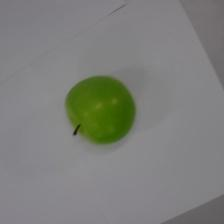green: (64, 74, 136, 145)
